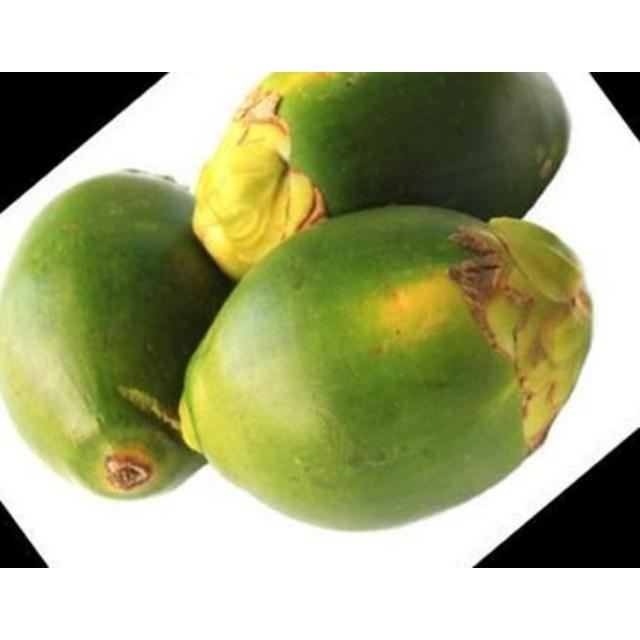good: (197, 72, 593, 504), (1, 175, 226, 500)
